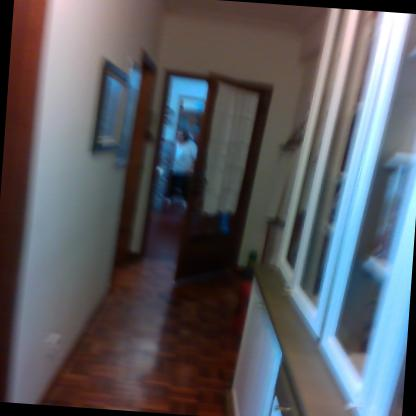semi: (135, 60, 278, 290)
